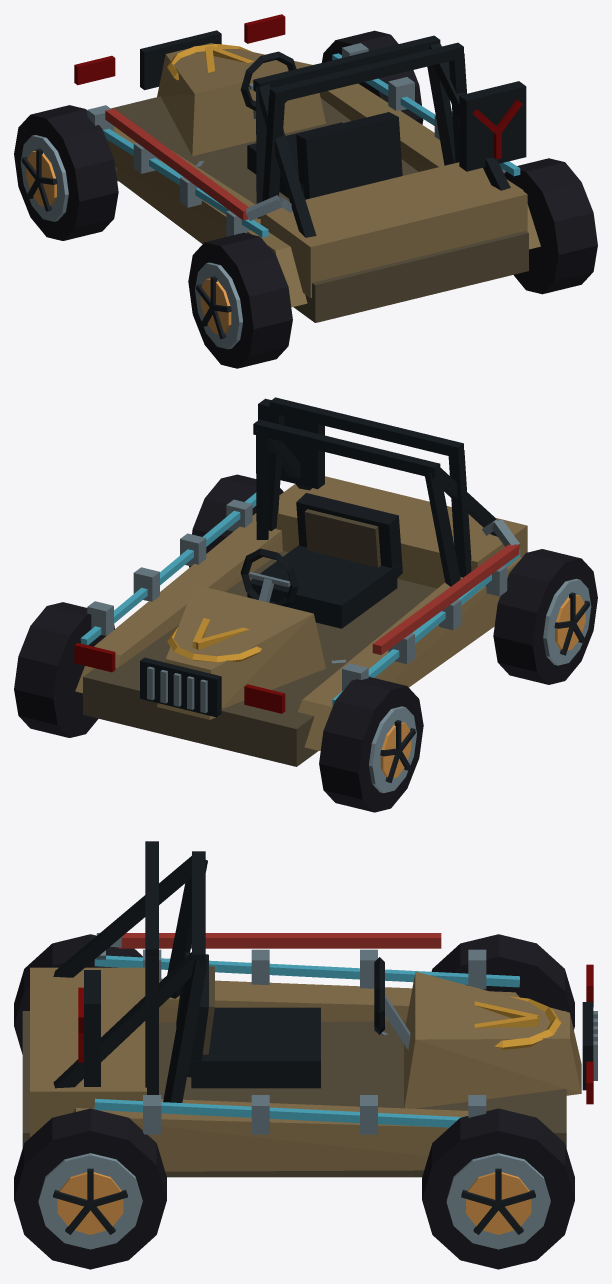
The model's file is kart.glb.
3 views of the same model, one above another, from view 1: azimuth 30°, elevation 25°; view 2: azimuth 150°, elevation 25°; view 3: azimuth 270°, elevation 25° (orthographic). The views are drawn at different scales.
Parts seen in each view (by area): view 1: identity-buggy-buggy-offroad-frame, wheel-rear-left, wheel-front-left, identity-buggy-motif-flux-coils, identity-buggy-driver-cockpit, wheel-rear-right, identity-buggy-motif-rollbar, identity-buggy-motif-crowbar, wheel-front-right, identity-buggy-motif-lambda; view 2: identity-buggy-buggy-offroad-frame, identity-buggy-driver-cockpit, wheel-front-left, wheel-rear-left, identity-buggy-motif-flux-coils, wheel-front-right, identity-buggy-motif-rollbar, identity-buggy-motif-crowbar, wheel-rear-right, identity-buggy-motif-lambda; view 3: identity-buggy-buggy-offroad-frame, wheel-rear-right, wheel-front-right, identity-buggy-motif-flux-coils, identity-buggy-driver-cockpit, wheel-front-left, identity-buggy-motif-crowbar, identity-buggy-motif-rollbar, wheel-rear-left, identity-buggy-motif-lambda.
Boxes of the visible parts, left/top/right/bottom form: identity-buggy-buggy-offroad-frame: left=74, top=14, right=540, bottom=322; wheel-rear-left: left=188, top=232, right=292, bottom=368; wheel-front-left: left=14, top=105, right=118, bottom=240; identity-buggy-motif-flux-coils: left=87, top=43, right=526, bottom=237; identity-buggy-driver-cockpit: left=240, top=51, right=402, bottom=199; wheel-rear-right: left=504, top=158, right=597, bottom=294; identity-buggy-motif-rollbar: left=262, top=42, right=466, bottom=201; identity-buggy-motif-crowbar: left=105, top=108, right=292, bottom=220; wheel-front-right: left=322, top=30, right=423, bottom=124; identity-buggy-motif-lambda: left=167, top=44, right=253, bottom=80; identity-buggy-buggy-offroad-frame: left=74, top=419, right=527, bottom=766; identity-buggy-driver-cockpit: left=240, top=493, right=402, bottom=628; wheel-front-left: left=319, top=677, right=423, bottom=812; wheel-rear-left: left=493, top=549, right=597, bottom=684; identity-buggy-motif-flux-coils: left=80, top=398, right=520, bottom=705; wheel-front-right: left=14, top=602, right=114, bottom=737; identity-buggy-motif-rollbar: left=268, top=397, right=471, bottom=577; identity-buggy-motif-crowbar: left=372, top=519, right=519, bottom=654; wheel-rear-right: left=189, top=474, right=283, bottom=567; identity-buggy-motif-lambda: left=167, top=618, right=261, bottom=662; identity-buggy-buggy-offroad-frame: left=22, top=851, right=597, bottom=1177; wheel-rear-right: left=14, top=1108, right=166, bottom=1269; wheel-front-right: left=422, top=1108, right=574, bottom=1269; identity-buggy-motif-flux-coils: left=78, top=949, right=519, bottom=1134; identity-buggy-driver-cockpit: left=176, top=952, right=410, bottom=1088; wheel-front-left: left=431, top=934, right=574, bottom=1029; identity-buggy-motif-crowbar: left=96, top=933, right=441, bottom=959; identity-buggy-motif-rollbar: left=145, top=841, right=158, bottom=1094; wheel-rear-left: left=14, top=934, right=142, bottom=1054; identity-buggy-motif-lambda: left=474, top=996, right=560, bottom=1049.
Bounding box in the file's own units: 2.31 × 1.43 × 2.75.
